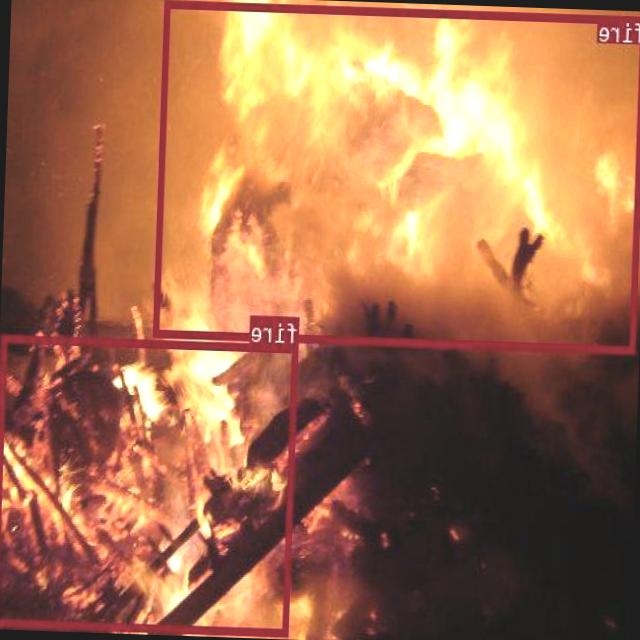fire: (154, 0, 640, 351), (0, 333, 299, 634)
